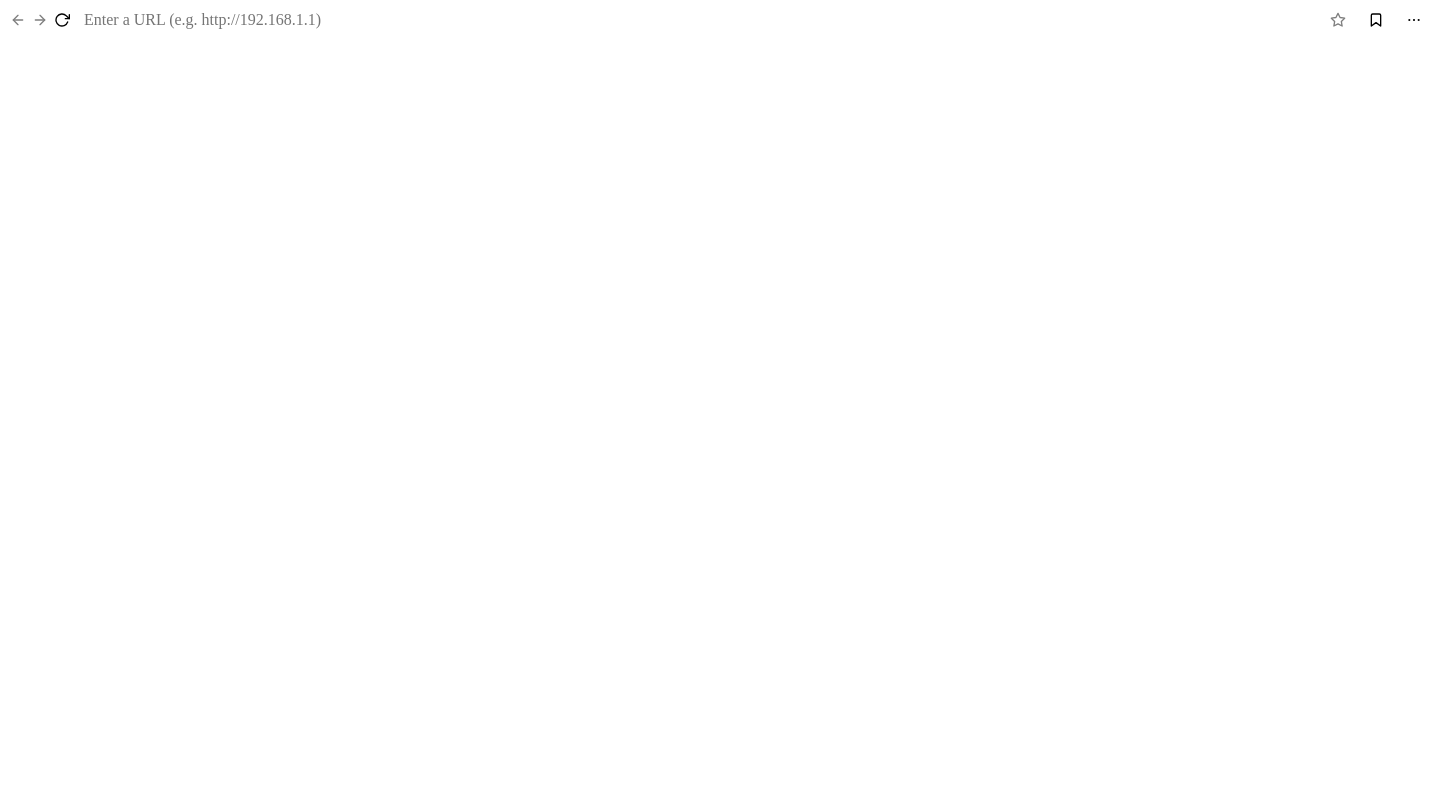
Test: WebBrowserPane › closes the More panel on an outside click
The image size is (1440, 810).
Click the button named "More": (1414,20) [1398,6,1430,34]
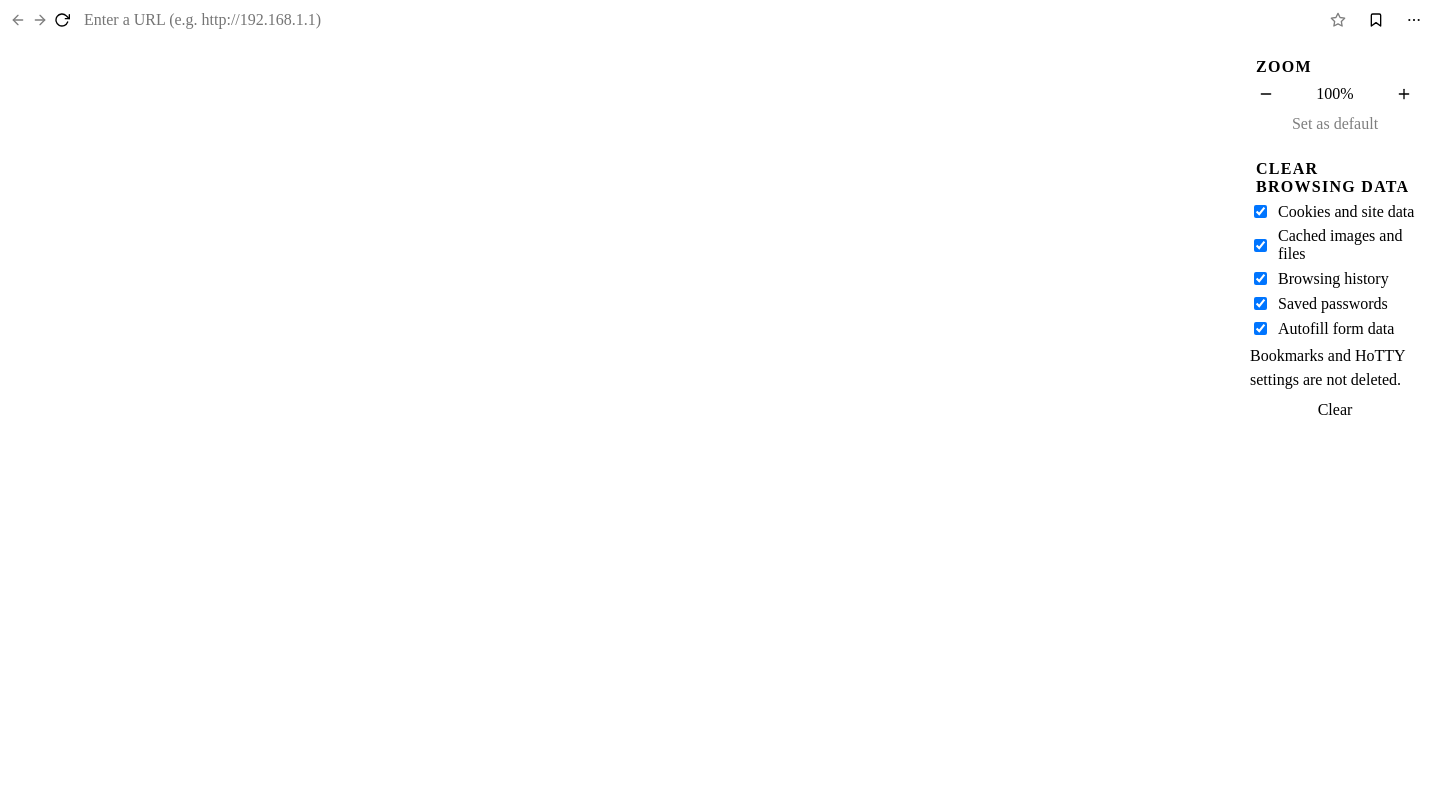
expect the text "Zoom" is shown: met, box [1256,58,1312,75]
Press the mouse on the element that starts with "Zoom": (720,405) [0,0,1439,809]
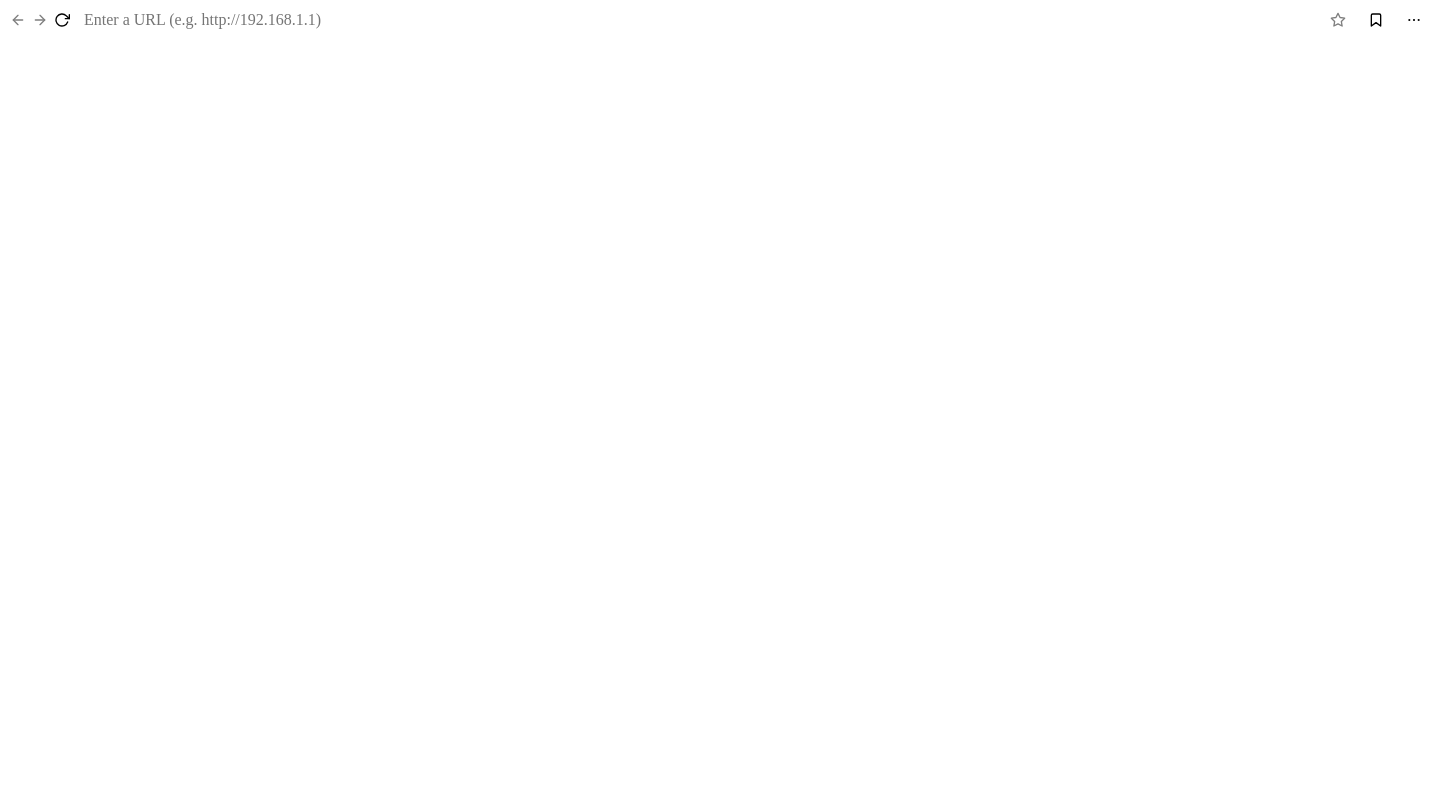
expect the text "Zoom" is gone: met
